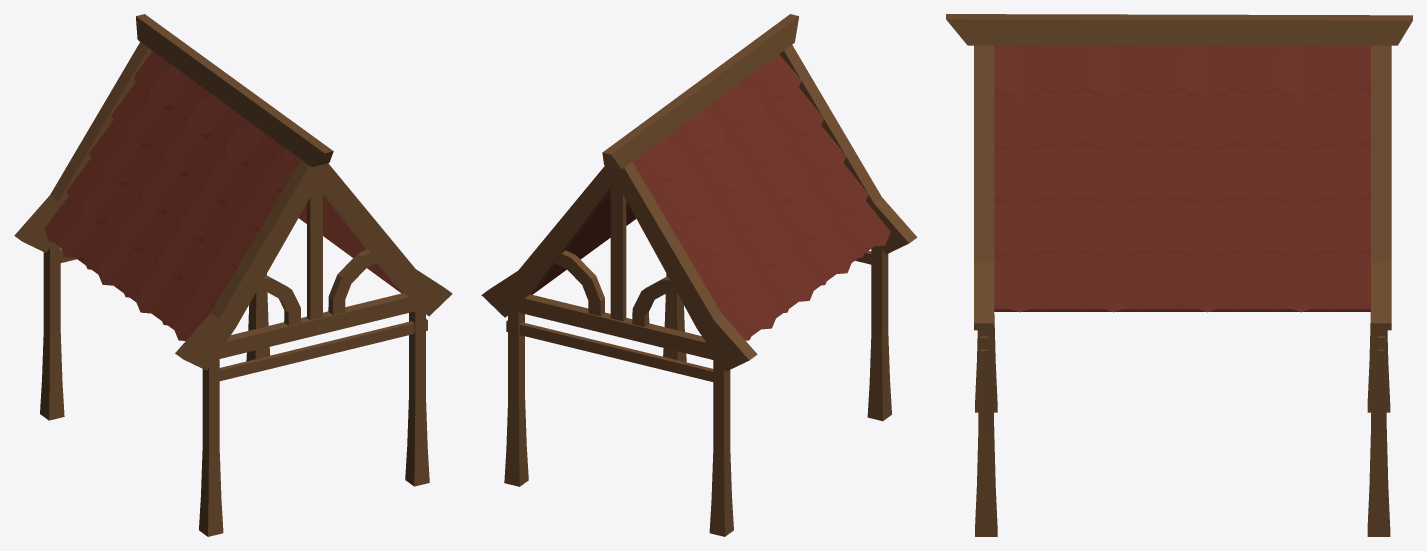
Rendered from Gazebo.glb.
3 views of the same model, side by side, from view 1: azimuth 30°, elevation 25°; view 2: azimuth 150°, elevation 25°; view 3: azimuth 270°, elevation 25° (orthographic). The views are drawn at different scales.
Parts seen in each view (by area): view 1: Gazebo; view 2: Gazebo; view 3: Gazebo.
Part boxes in pixels (x1,y1,x2,y2): Gazebo: [14, 14, 452, 536]; Gazebo: [481, 14, 917, 536]; Gazebo: [946, 14, 1412, 536].
Bounding box in the file's own units: 1.04 × 1.35 × 1.26.
